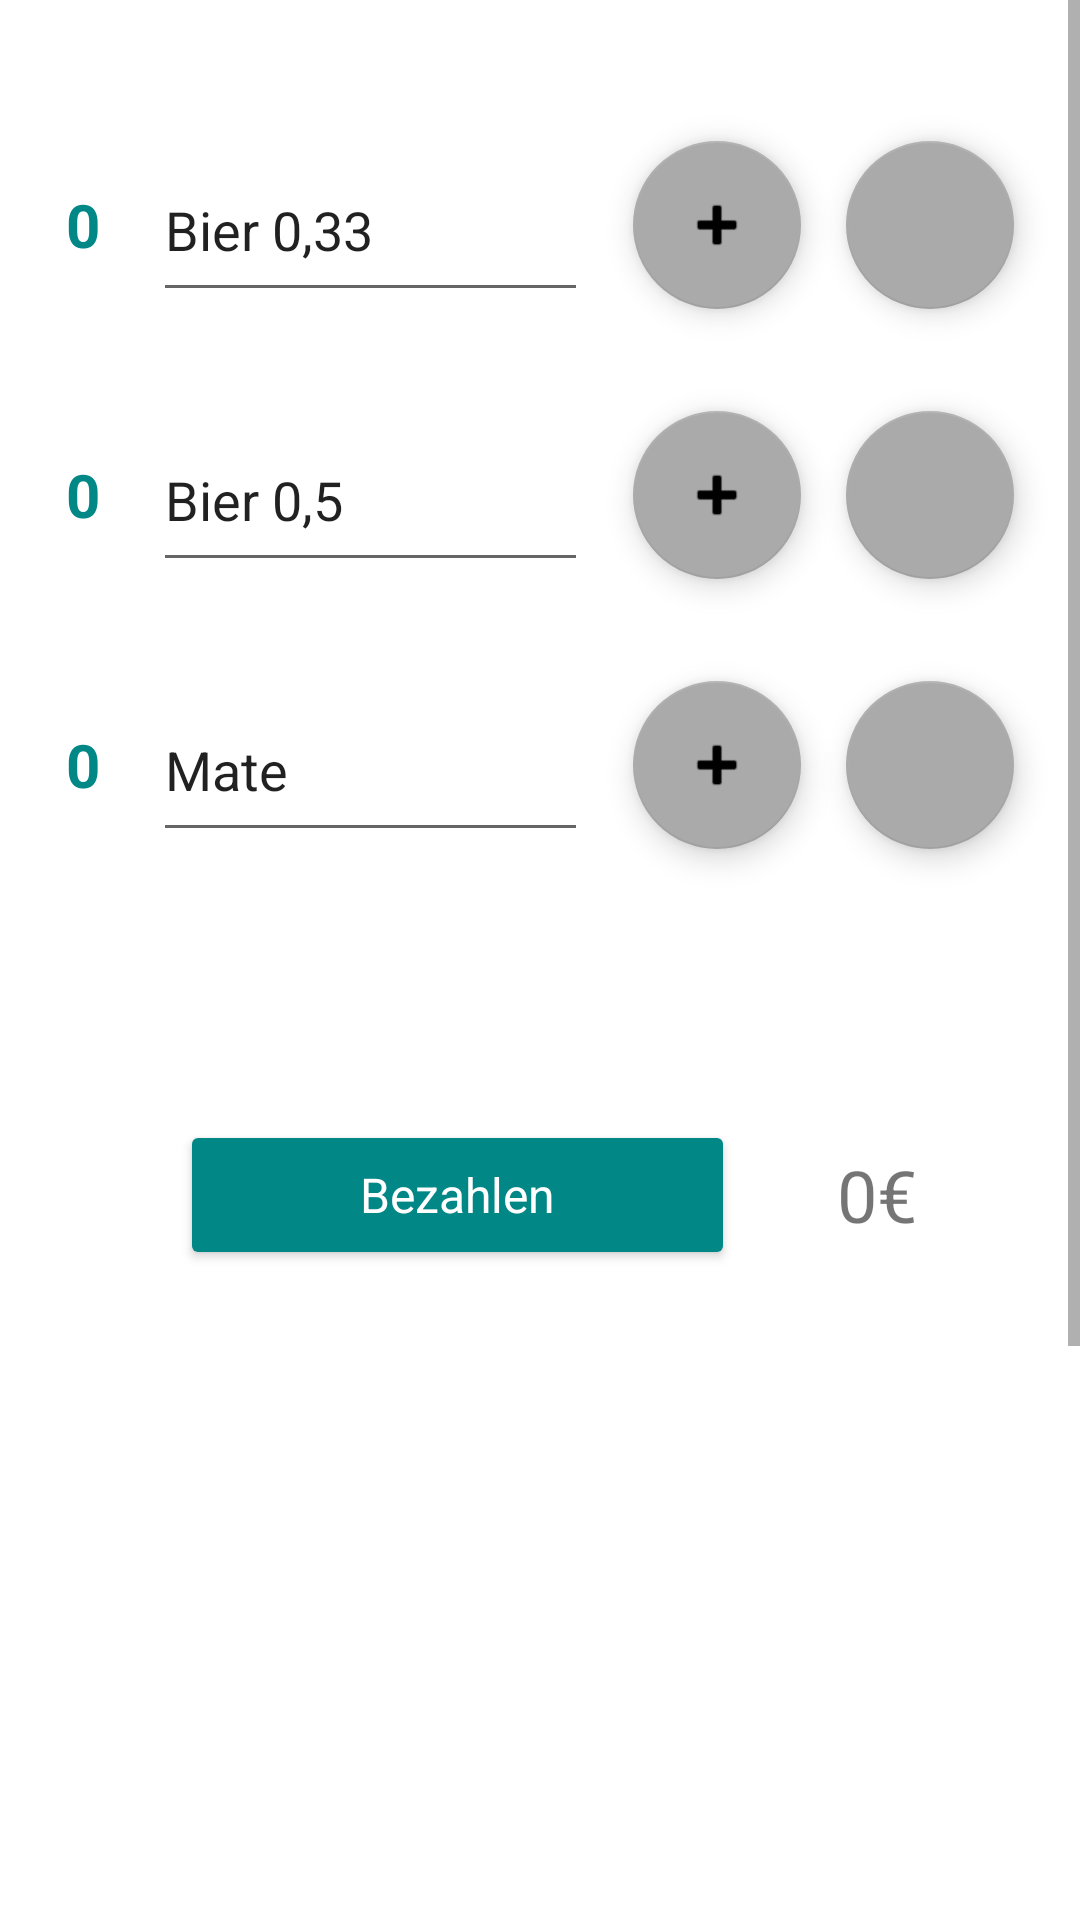

Screen size 1080 × 1920. Icon name, then its center in pixels as (x,y):
add: (717,225), (717,495), (717,765)
